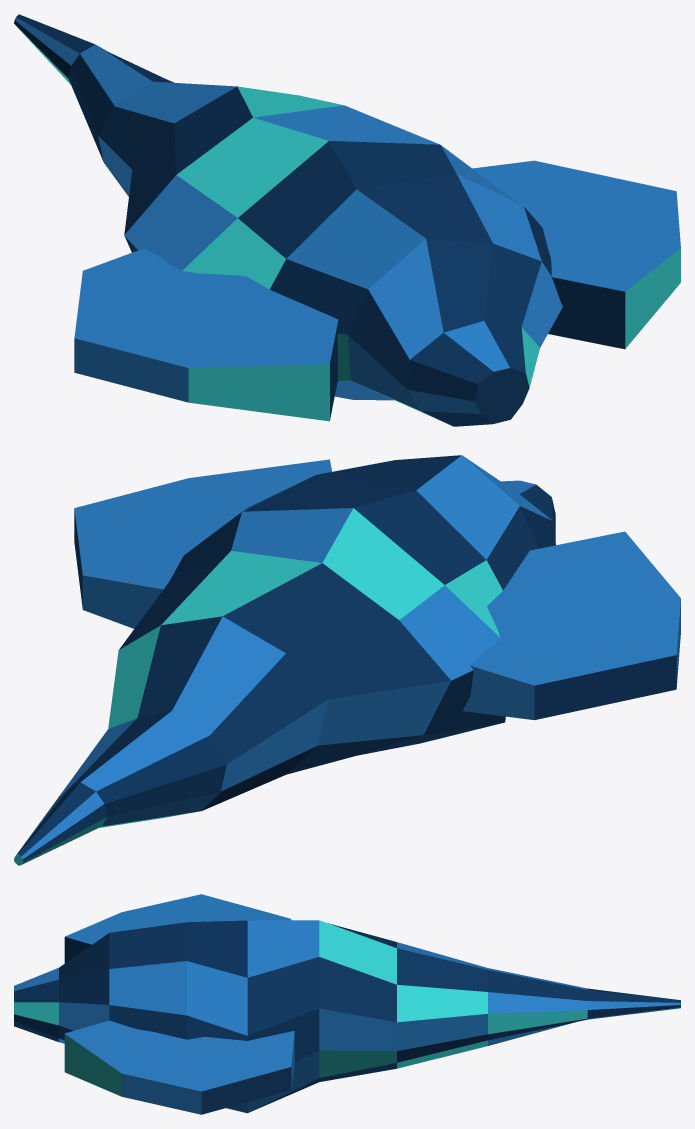
The model's file is frost_needle_v2.obj.
3 views of the same model, one above another, from view 1: azimuth 30°, elevation 25°; view 2: azimuth 150°, elevation 25°; view 3: azimuth 270°, elevation 25° (orthographic). The views are drawn at different scales.
Visible parts, largest first — view 1: Frost_Needle_v2_Solid_Crystal_Blade, Frost_Needle_v2_Solid_Wing_L, Frost_Needle_v2_Solid_Wing_R; view 2: Frost_Needle_v2_Solid_Crystal_Blade, Frost_Needle_v2_Solid_Wing_L, Frost_Needle_v2_Solid_Wing_R; view 3: Frost_Needle_v2_Solid_Crystal_Blade, Frost_Needle_v2_Solid_Wing_R, Frost_Needle_v2_Solid_Wing_L.
Boxes of the visible parts, bbox=[...] form: Frost_Needle_v2_Solid_Crystal_Blade: bbox=[14, 14, 562, 426]; Frost_Needle_v2_Solid_Wing_L: bbox=[74, 248, 338, 421]; Frost_Needle_v2_Solid_Wing_R: bbox=[472, 160, 680, 349]; Frost_Needle_v2_Solid_Crystal_Blade: bbox=[14, 455, 555, 865]; Frost_Needle_v2_Solid_Wing_L: bbox=[463, 531, 680, 720]; Frost_Needle_v2_Solid_Wing_R: bbox=[74, 459, 332, 628]; Frost_Needle_v2_Solid_Crystal_Blade: bbox=[14, 920, 680, 1113]; Frost_Needle_v2_Solid_Wing_R: bbox=[64, 1020, 294, 1114]; Frost_Needle_v2_Solid_Wing_L: bbox=[64, 894, 291, 963].
Bounding box in the file's own units: 4.16 × 1.72 × 5.94.
